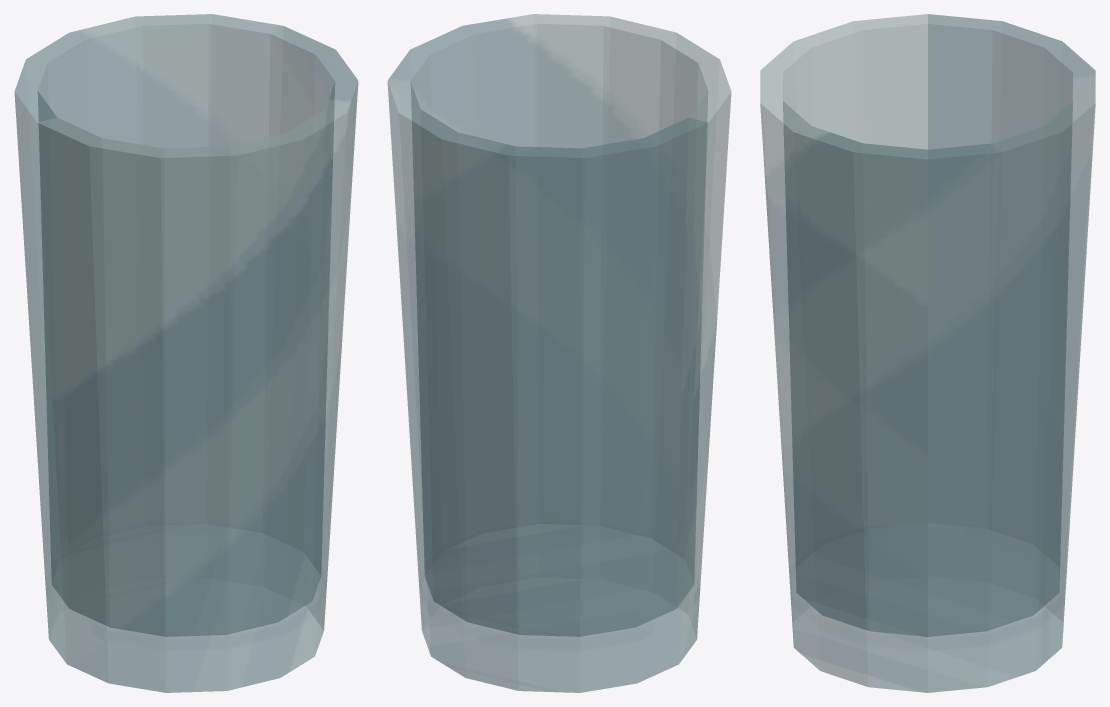
Rendered from MD_61_DrinkingGlass.fbx.
3 views of the same model, side by side, from view 1: azimuth 30°, elevation 25°; view 2: azimuth 150°, elevation 25°; view 3: azimuth 270°, elevation 25° (orthographic).
Visible parts, largest first — view 1: MD_61_DrinkingGlass_drinking_glass; view 2: MD_61_DrinkingGlass_drinking_glass; view 3: MD_61_DrinkingGlass_drinking_glass.
Boxes of the visible parts, box(x1,y1,x2,y2) form: MD_61_DrinkingGlass_drinking_glass: box(14, 14, 358, 692); MD_61_DrinkingGlass_drinking_glass: box(387, 14, 731, 692); MD_61_DrinkingGlass_drinking_glass: box(760, 14, 1095, 692).
Bounding box in the file's own units: 0.074 × 0.13 × 0.0721.
1 material, 1 textured.
